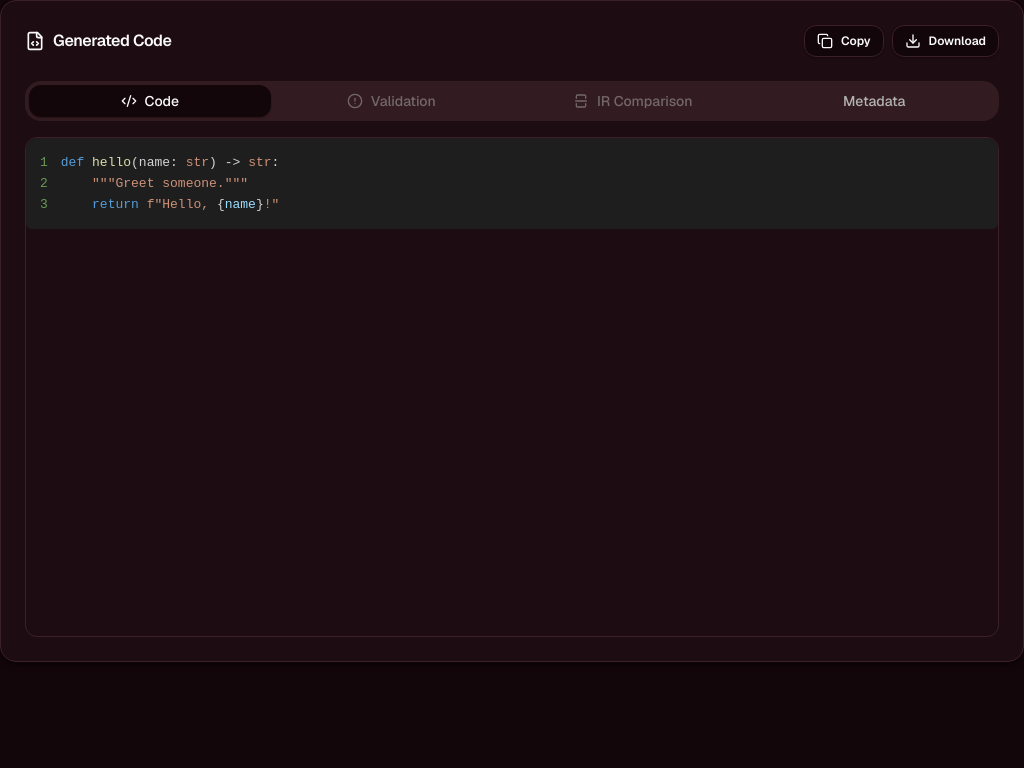
it: CodePreview › switches to metadata tab when clicked
Click the tab "Metadata" at (874, 101), box [754,85,995,117]
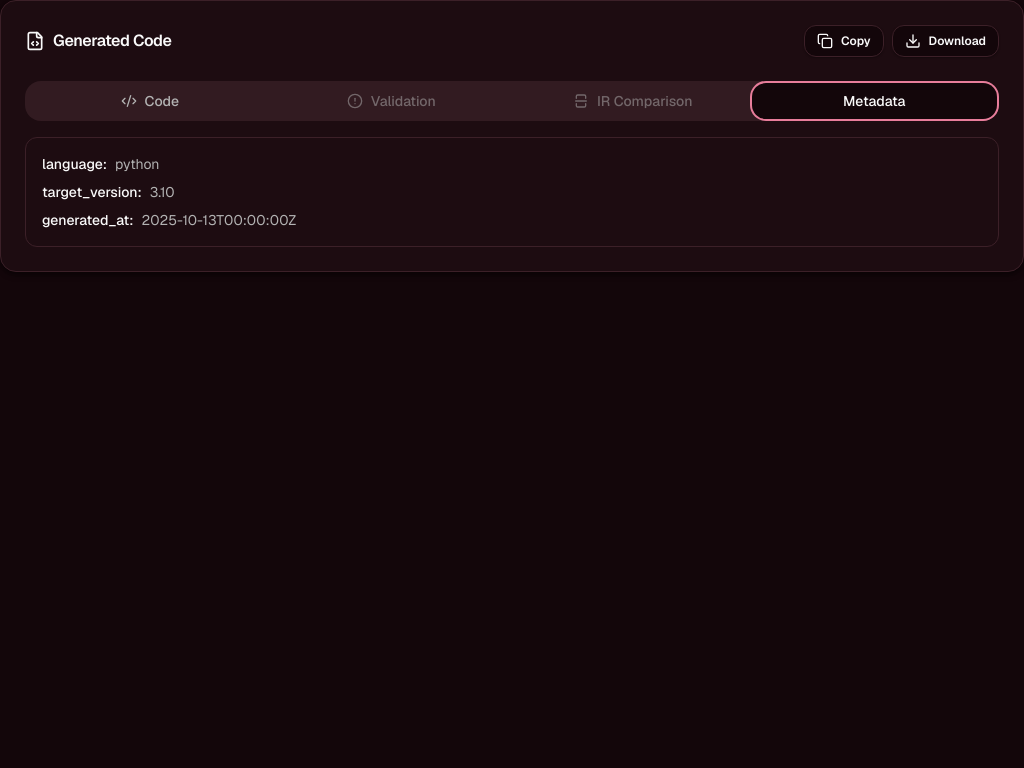
Expected: the text "language:" is shown, [42,154,107,174]
Expected: the text "python" is shown, [115,154,160,174]
